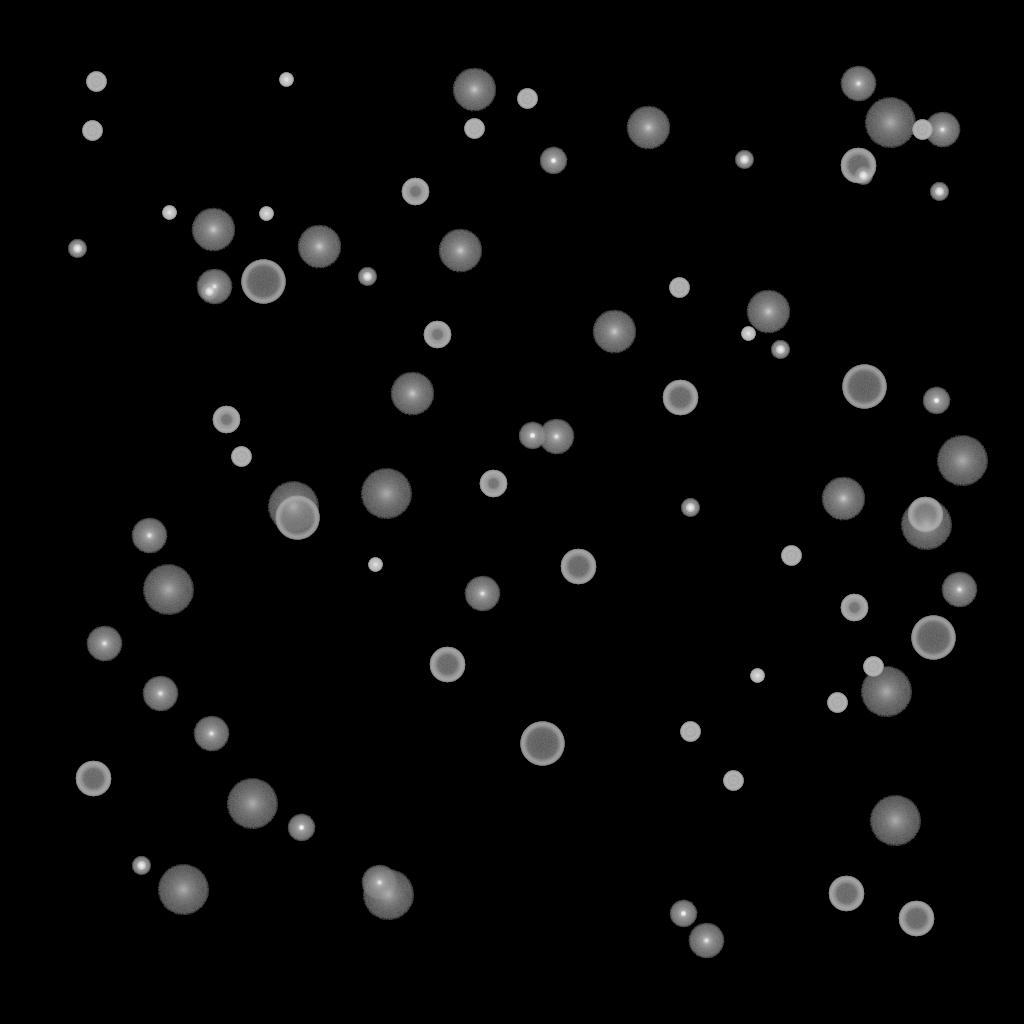depth:-10: (669, 900, 697, 928), (287, 814, 315, 842), (518, 422, 546, 450), (539, 147, 567, 175), (922, 387, 950, 415)
depth:-20: (132, 857, 150, 875), (735, 151, 753, 169), (681, 499, 699, 517), (930, 183, 948, 201), (200, 283, 218, 301), (854, 167, 872, 185), (771, 341, 789, 359), (358, 268, 376, 286), (68, 240, 86, 258)
depth:-30: (741, 327, 755, 341), (750, 669, 764, 683), (162, 206, 176, 220), (279, 73, 293, 87), (259, 207, 273, 221), (368, 558, 382, 572)
depth:-40: (517, 89, 537, 109), (669, 278, 689, 298), (912, 120, 932, 140), (680, 722, 700, 742), (863, 657, 883, 677), (82, 121, 102, 141), (723, 771, 743, 791), (827, 693, 847, 713), (464, 119, 484, 139), (86, 72, 106, 92), (781, 546, 801, 566), (231, 447, 251, 467)
depth:-50: (840, 594, 868, 622), (212, 406, 240, 434), (423, 321, 451, 349), (479, 470, 507, 498), (401, 178, 429, 206)
depth:-60: (75, 761, 111, 797), (429, 647, 465, 683), (840, 148, 876, 184), (828, 876, 864, 912), (662, 380, 698, 416), (907, 497, 943, 533), (898, 901, 934, 937), (560, 549, 596, 585)
depth:-70: (520, 722, 564, 766), (275, 496, 319, 540), (241, 260, 285, 304), (842, 365, 886, 409), (911, 616, 955, 660)
depth:0: (131, 518, 167, 554), (196, 269, 232, 305), (86, 626, 122, 662), (538, 419, 574, 455), (464, 576, 500, 612), (840, 66, 876, 102), (142, 676, 178, 712), (193, 716, 229, 752), (361, 865, 397, 901), (941, 572, 977, 608), (924, 112, 960, 148), (688, 923, 724, 959)
depth:10: (438, 229, 482, 273), (297, 225, 341, 269), (191, 208, 235, 252), (592, 310, 636, 354), (452, 68, 496, 112), (390, 372, 434, 416), (821, 477, 865, 521), (626, 106, 670, 150), (746, 290, 790, 334)
depth:20: (142, 565, 194, 615), (936, 436, 988, 486), (360, 469, 412, 519), (864, 98, 916, 148), (157, 865, 209, 915), (860, 667, 912, 717), (267, 482, 319, 532), (226, 779, 278, 829), (362, 870, 414, 920), (900, 500, 952, 550), (869, 796, 921, 846)
